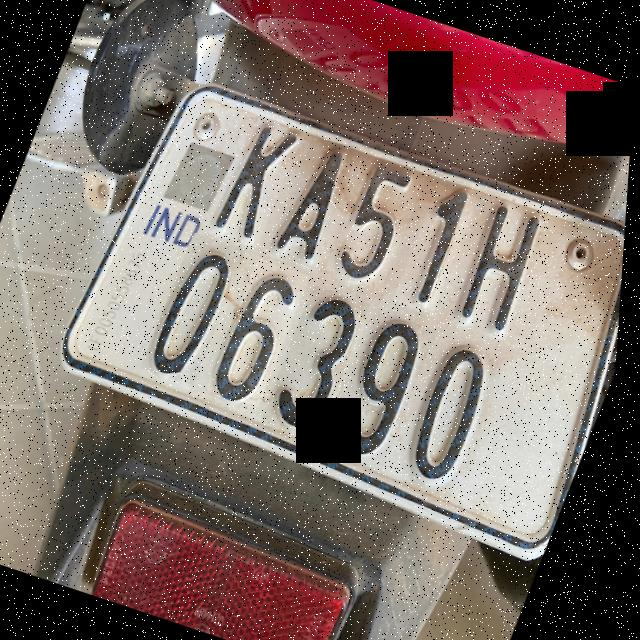0: (401, 340, 511, 498), (145, 232, 252, 386)
1: (396, 174, 485, 314)
3: (265, 285, 376, 440)
5: (327, 147, 433, 293)
6: (211, 260, 314, 408)
9: (326, 310, 442, 472)
A: (270, 132, 363, 269)
H: (441, 194, 564, 348)
K: (204, 109, 308, 249)
